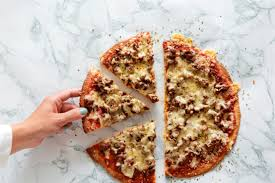pizza: (74, 19, 255, 182)
